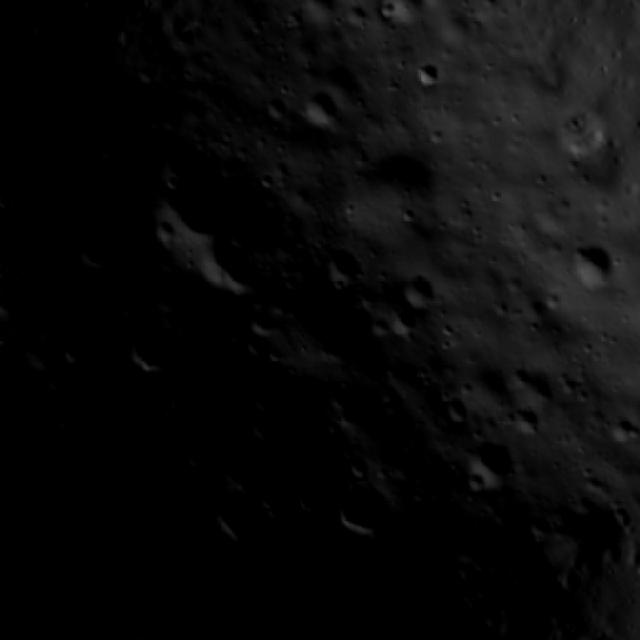crater: (143, 137, 280, 266), (199, 406, 319, 528), (175, 220, 278, 318), (108, 307, 194, 393), (195, 471, 278, 560), (323, 475, 405, 556), (540, 484, 632, 554), (554, 227, 628, 301), (454, 428, 524, 498), (148, 130, 210, 192), (392, 258, 450, 320), (291, 80, 347, 137), (313, 235, 370, 291), (315, 365, 370, 423), (37, 388, 91, 442), (516, 498, 566, 553), (239, 298, 290, 349), (371, 0, 439, 38), (12, 411, 58, 463), (243, 372, 291, 421), (376, 299, 426, 346), (230, 320, 278, 368), (594, 403, 640, 452), (174, 430, 220, 476), (406, 52, 449, 94), (438, 388, 476, 430), (256, 87, 295, 125), (290, 482, 322, 516), (626, 370, 640, 439), (0, 316, 14, 353)
